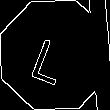L_N: (31, 26, 79, 84)
